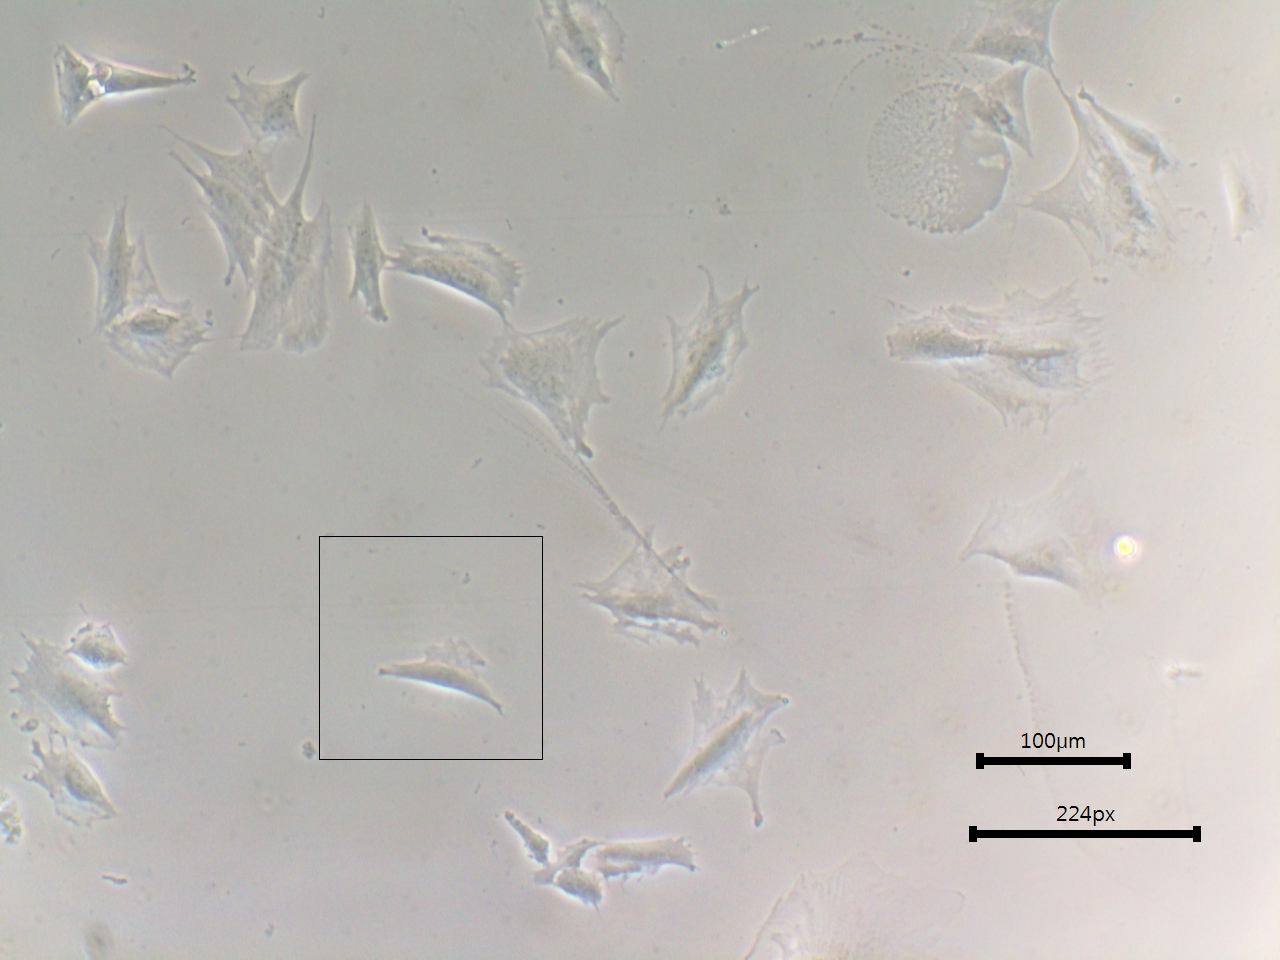dividing: (466, 313, 639, 470), (391, 230, 521, 326)
medium-spread: (654, 674, 793, 835), (580, 531, 724, 671), (656, 254, 768, 422), (251, 187, 335, 358), (79, 201, 157, 328), (108, 305, 209, 387)
small-polygonal: (373, 636, 505, 714), (343, 197, 385, 332)
small-round: (68, 624, 128, 672)
small-spread: (30, 742, 115, 840), (226, 67, 310, 142)
spindle: (928, 285, 1121, 448)
